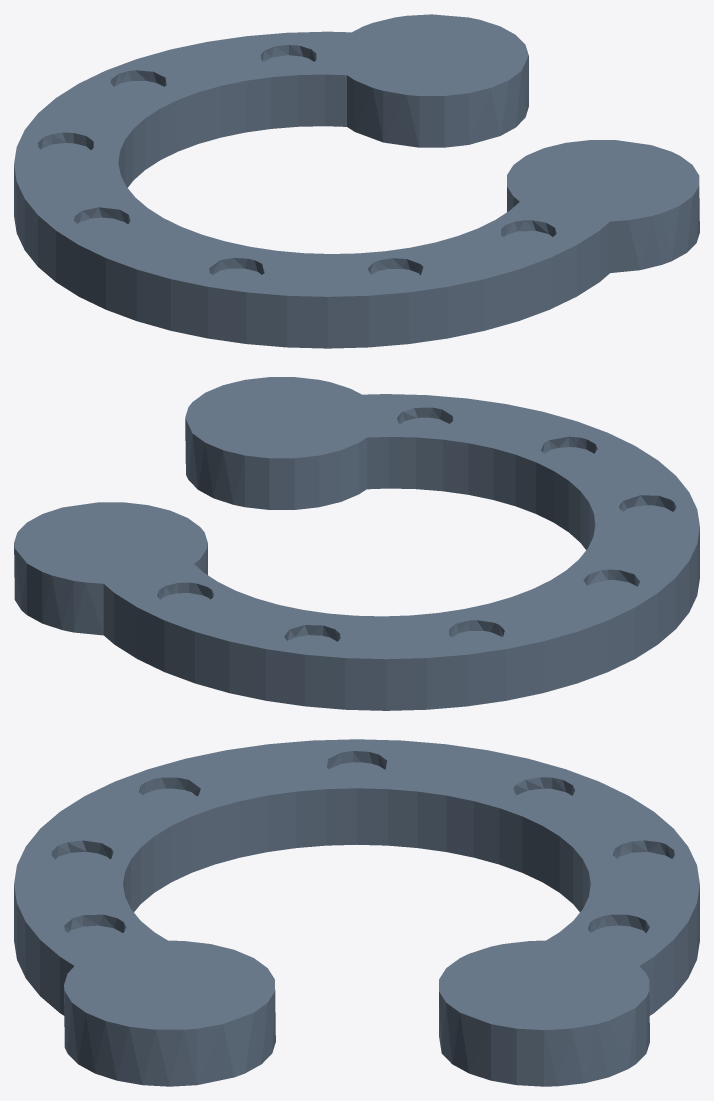
Rendered from horseshoe.glb.
3 views of the same model, one above another, from view 1: azimuth 30°, elevation 25°; view 2: azimuth 150°, elevation 25°; view 3: azimuth 270°, elevation 25° (orthographic). The views are drawn at different scales.
Visible parts, largest first — view 1: Mesh_Mesh_head_geo001_lambert2SG001; view 2: Mesh_Mesh_head_geo001_lambert2SG001; view 3: Mesh_Mesh_head_geo001_lambert2SG001.
Boxes of the visible parts, <box> form: Mesh_Mesh_head_geo001_lambert2SG001: <box>14,14,699,348</box>; Mesh_Mesh_head_geo001_lambert2SG001: <box>14,377,699,710</box>; Mesh_Mesh_head_geo001_lambert2SG001: <box>14,739,699,1086</box>.
Bounding box in the file's own units: 55.19 × 5 × 55.
